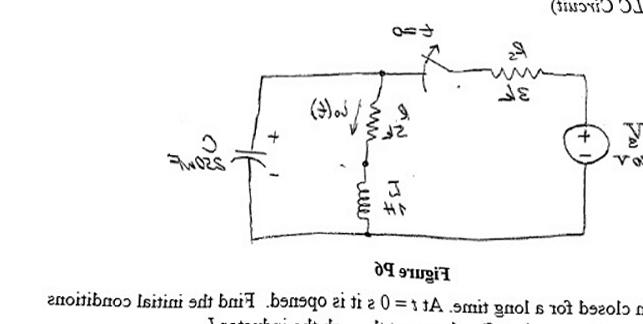Battery: (545, 111, 619, 177)
